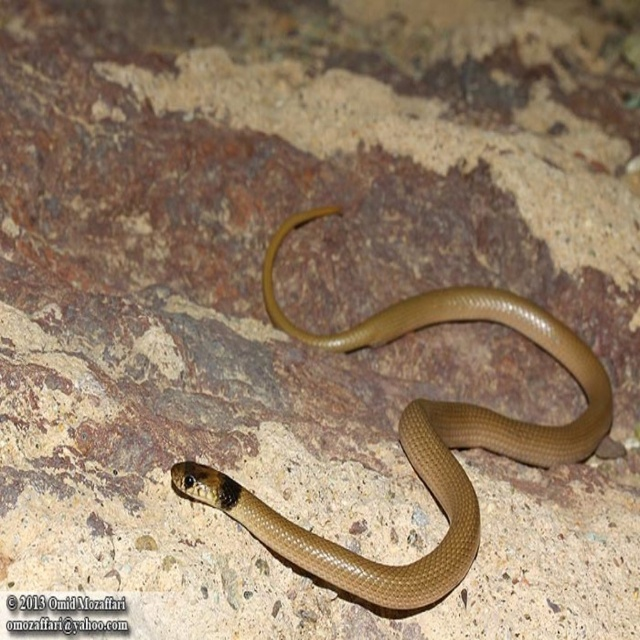Snake: (170, 204, 614, 612)
